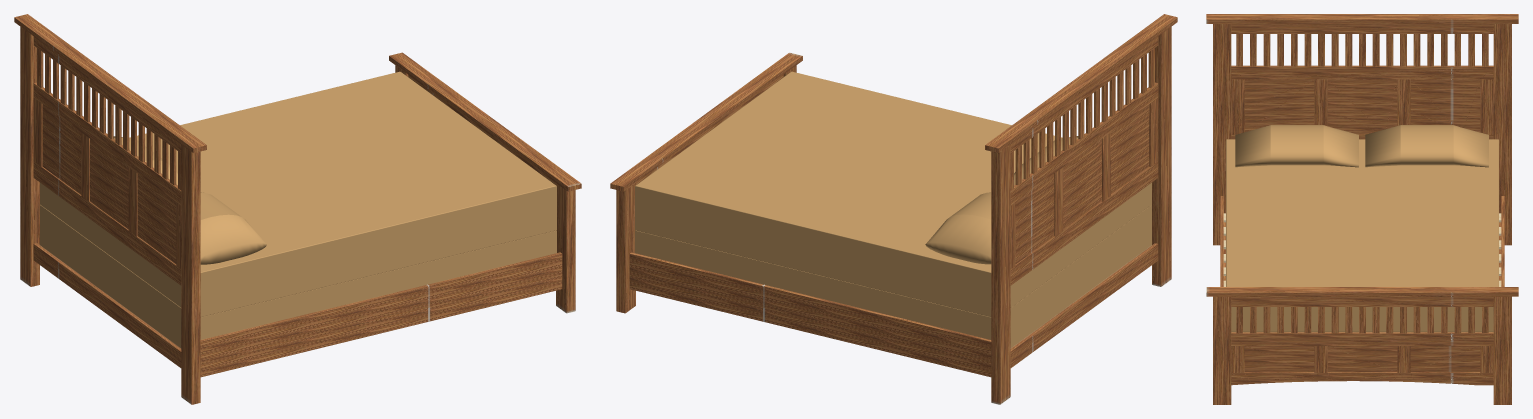
Rendered from bed.min.dae.
The picture shows the model from 3 angles, left to right: view 1: azimuth 30°, elevation 25°; view 2: azimuth 150°, elevation 25°; view 3: azimuth 270°, elevation 25°; orthographic projection. The views are drawn at different scales.
Parts seen in each view (by area): view 1: SketchUp (×17), pillow; view 2: SketchUp (×17), pillow; view 3: SketchUp (×24), pillow (×2).
Part boxes in pixels (left/top/right/bottom): SketchUp (×17): left=14, top=14, right=581, bottom=404; pillow: left=200, top=192, right=266, bottom=264; SketchUp (×17): left=610, top=14, right=1177, bottom=404; pillow: left=925, top=192, right=991, bottom=264; SketchUp (×24): left=1206, top=14, right=1518, bottom=404; pillow (×2): left=1235, top=125, right=1488, bottom=167.
Size of the model in its own units: 86 by 68.75 by 55.
